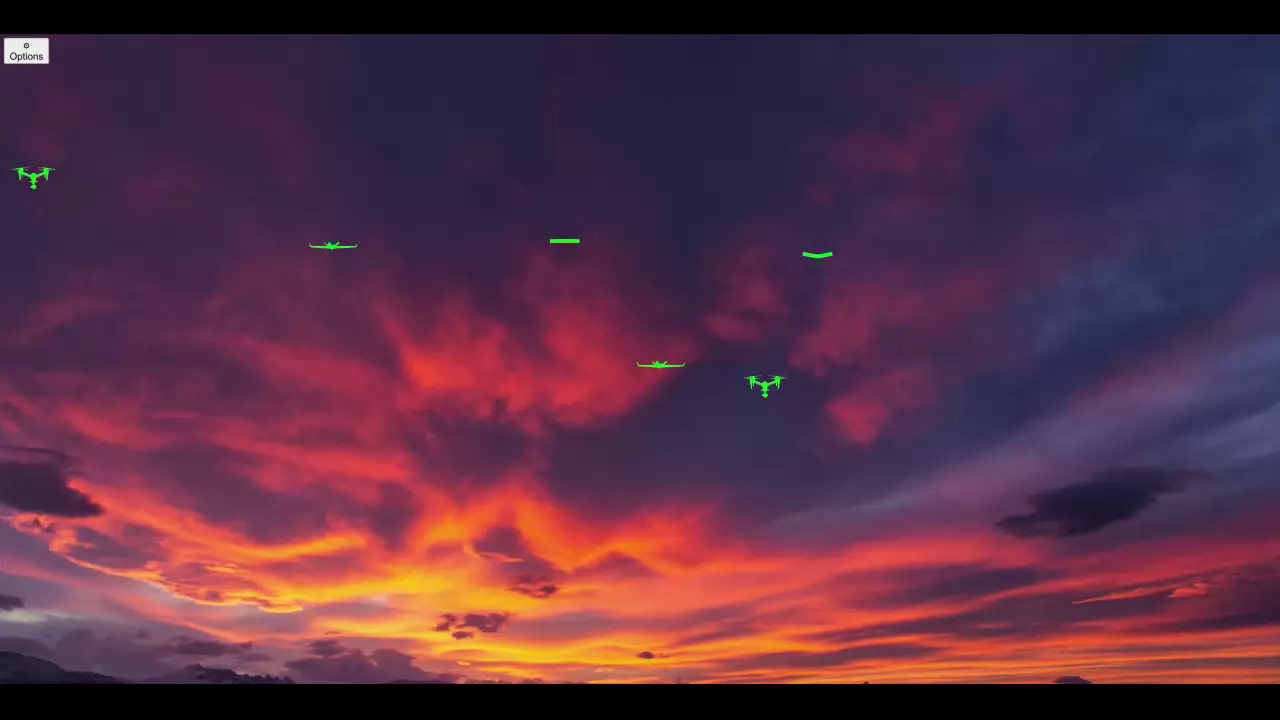Bird: (536, 222, 596, 263), (787, 238, 849, 276)
Drone: (630, 344, 699, 387), (297, 225, 367, 261)
Quadcopter: (8, 152, 77, 197), (735, 361, 796, 405)
